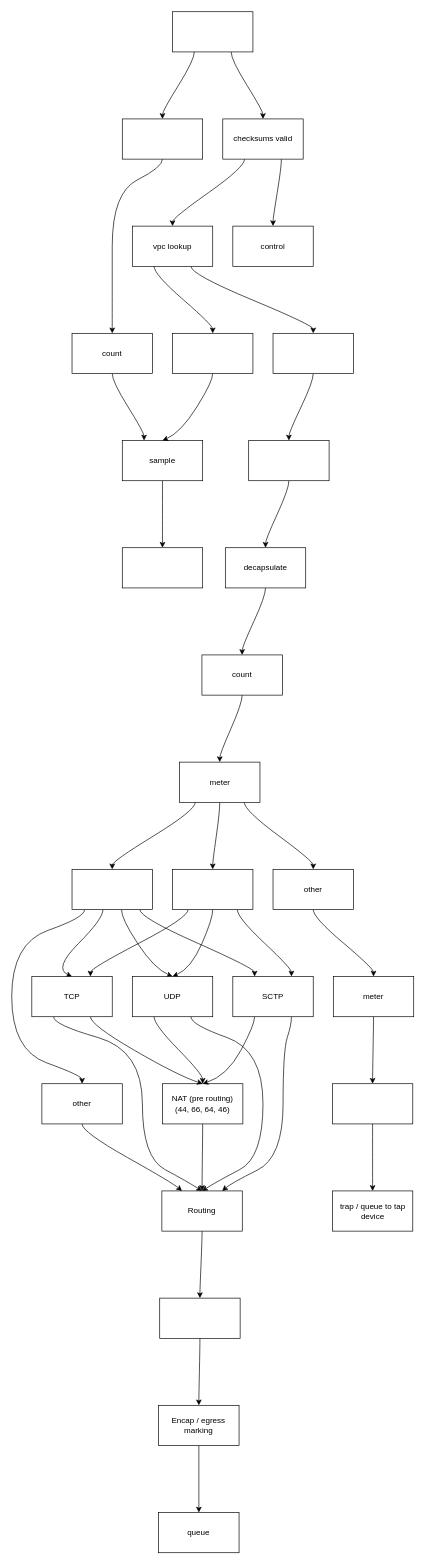
Some shapes in this 425 by 1564 pixel diagram are drawn without their labels. The box of each missing label's shape, as (x1, y1, x2, y2) in pixels:
checksums invalid: (122, 118, 203, 159)
drop: (122, 547, 203, 588)
ipv4: (71, 869, 152, 910)
ipv6: (172, 869, 253, 910)
mark frame: (248, 440, 329, 481)
NAT (post routing) (44, 66, 64, 46): (159, 1297, 240, 1338)
Push QinQ: (332, 1083, 413, 1124)
root: (172, 11, 253, 52)
vpc match: (272, 333, 353, 374)
vpc miss: (172, 333, 253, 374)
